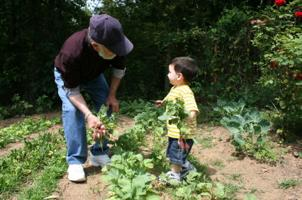person: (52, 14, 135, 185)
